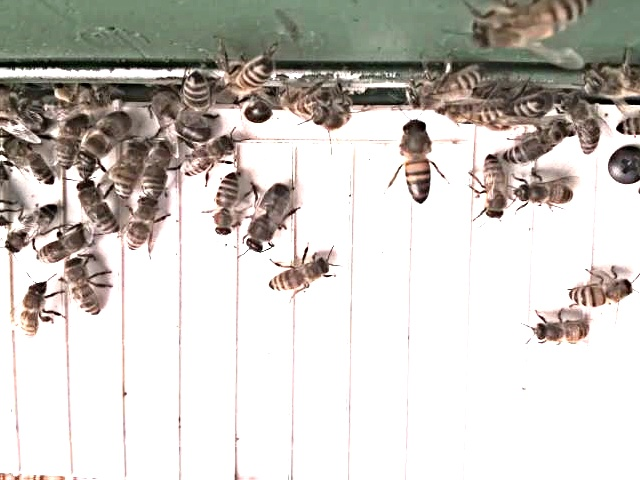Drone: (143, 87, 210, 147), (242, 180, 294, 257), (75, 108, 134, 168)
Worker: (396, 117, 434, 208), (1, 202, 60, 258), (0, 137, 57, 190), (556, 89, 598, 157), (264, 256, 336, 295), (503, 124, 563, 170), (182, 136, 238, 180), (110, 139, 147, 204), (76, 181, 119, 235), (65, 258, 101, 321), (208, 173, 241, 241), (473, 155, 505, 222), (565, 281, 631, 312), (30, 232, 86, 268), (16, 283, 50, 342), (52, 114, 85, 174), (512, 179, 574, 209), (142, 145, 173, 204), (529, 320, 592, 348), (123, 204, 154, 256)
